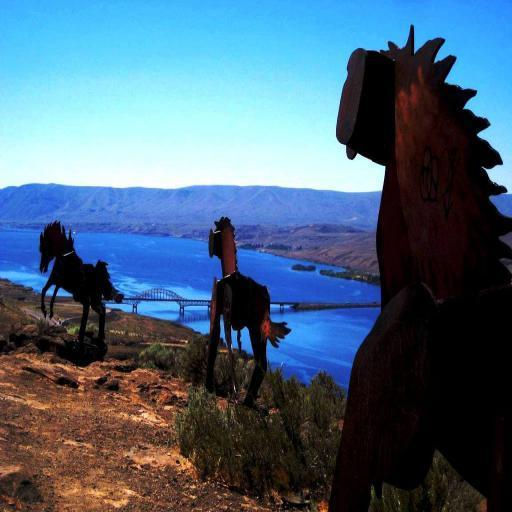horse: (326, 22, 512, 508), (208, 214, 292, 410), (38, 216, 126, 348)
